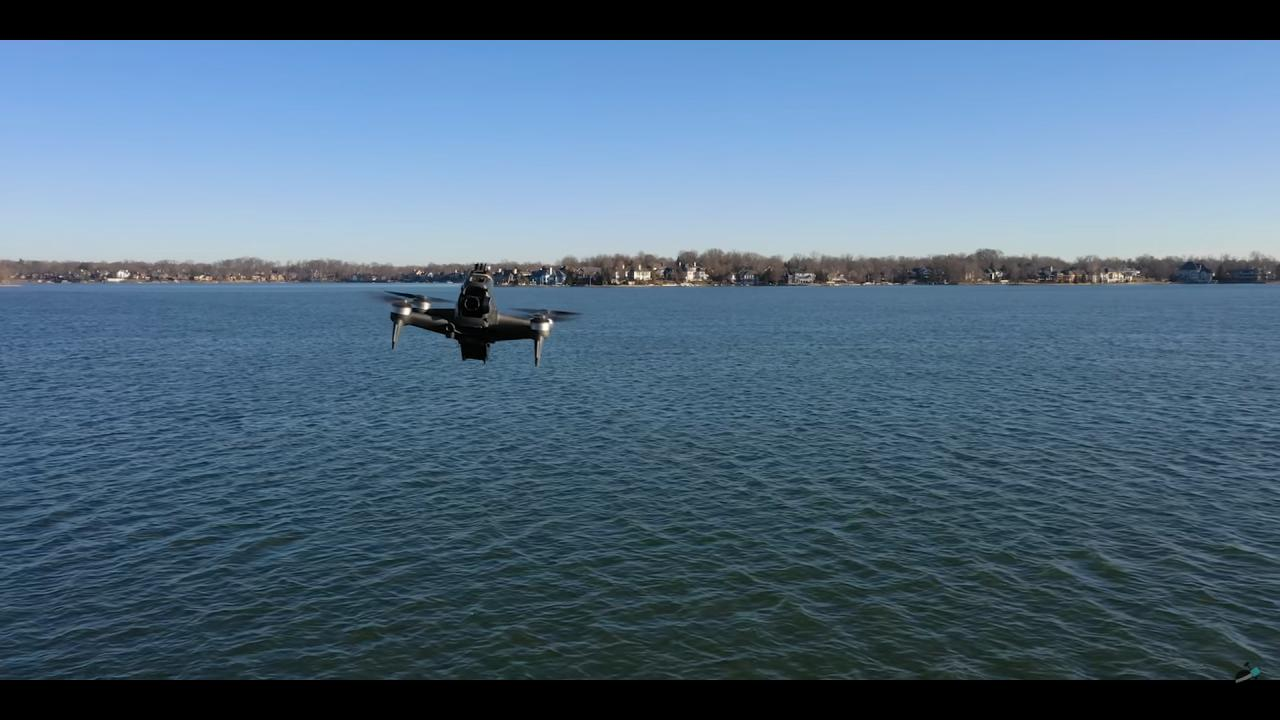Drone: (368, 262, 585, 373)
